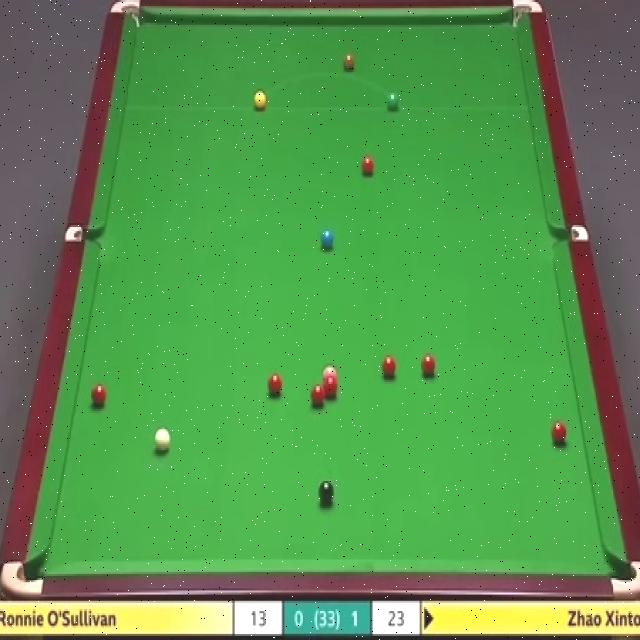black-ball: (317, 480, 336, 506)
blue-ball: (320, 229, 334, 249)
brown-ball: (342, 53, 354, 71)
green-ball: (385, 90, 399, 112)
pink-ball: (322, 367, 336, 384)
red-ball: (89, 384, 108, 408), (309, 384, 326, 407), (380, 356, 396, 380), (550, 421, 567, 443), (267, 374, 283, 396), (422, 353, 435, 378), (360, 156, 374, 178), (322, 380, 338, 398)
white-ball: (154, 428, 170, 453)
yellow-ball: (253, 90, 266, 110)
